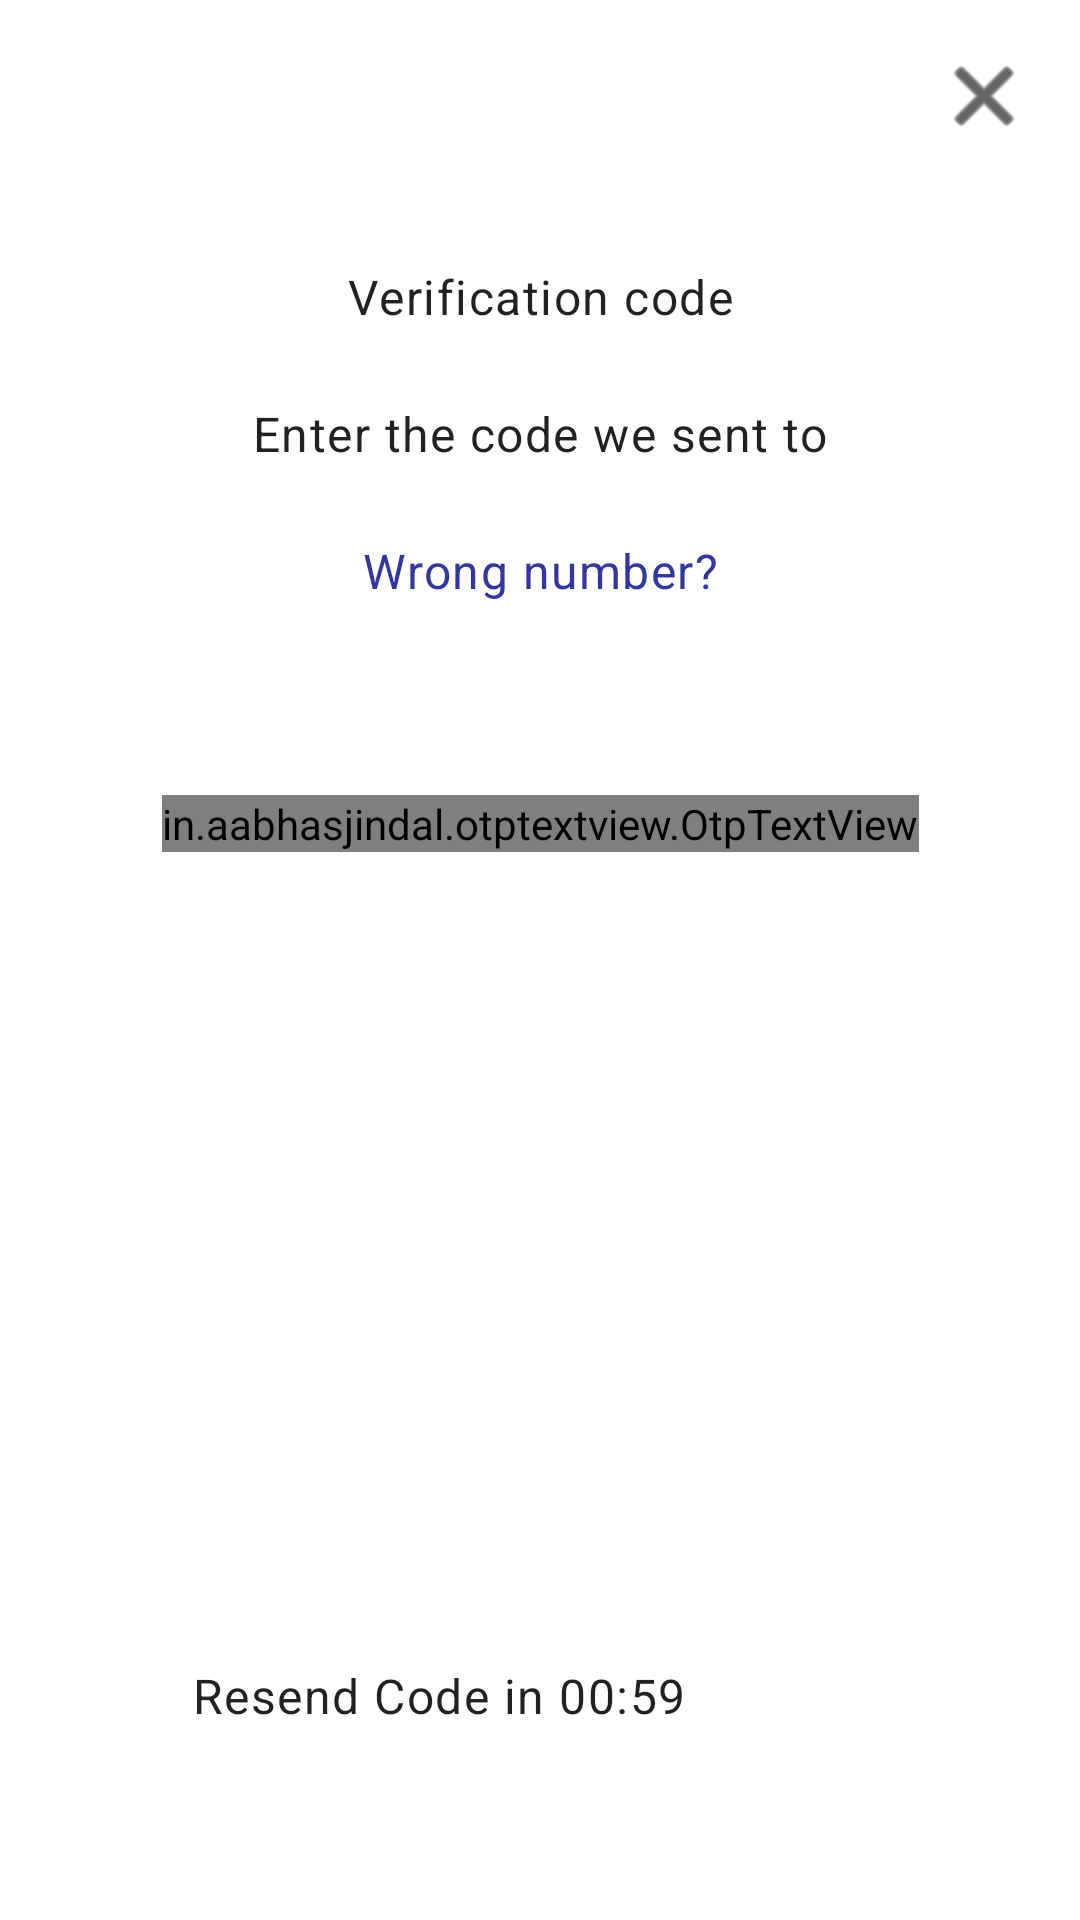

Icons on this 1080w x 1920h Android screen, each with its box as [left=x1, top=y1, right=x2, bottom=y2]:
close clear cancel: [left=954, top=66, right=1014, bottom=126]
